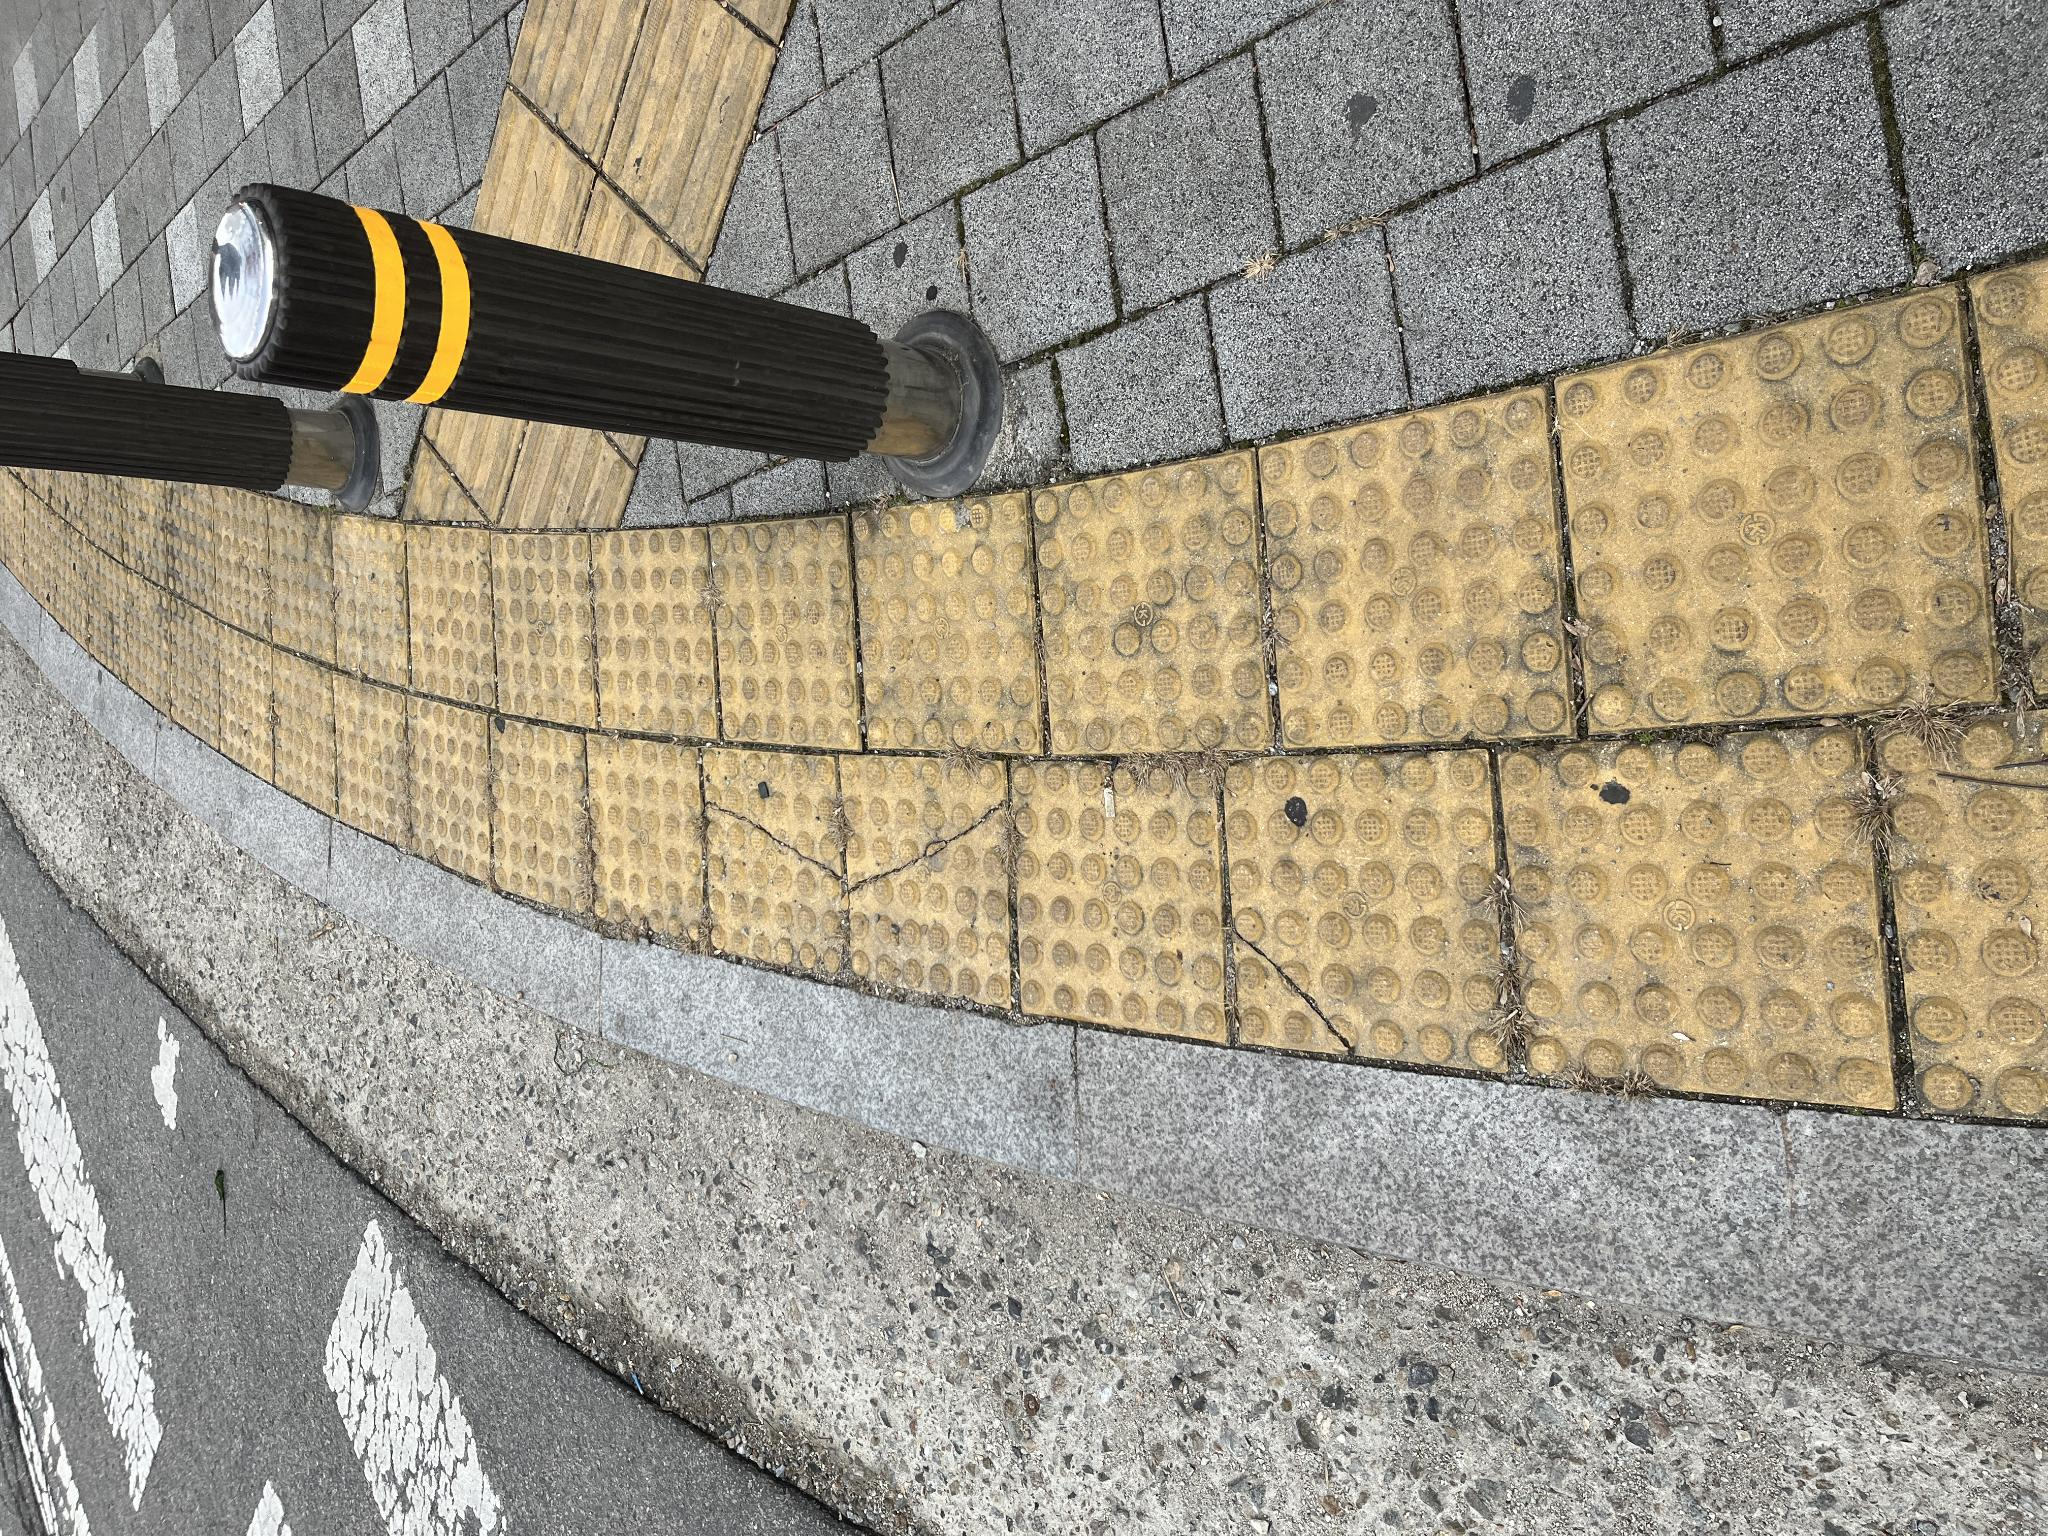Stop block broken: (531, 841, 780, 1007), (561, 703, 789, 845)
Stop block normal: (789, 1258, 1148, 1536), (780, 1033, 1085, 1263), (829, 407, 1011, 492)
